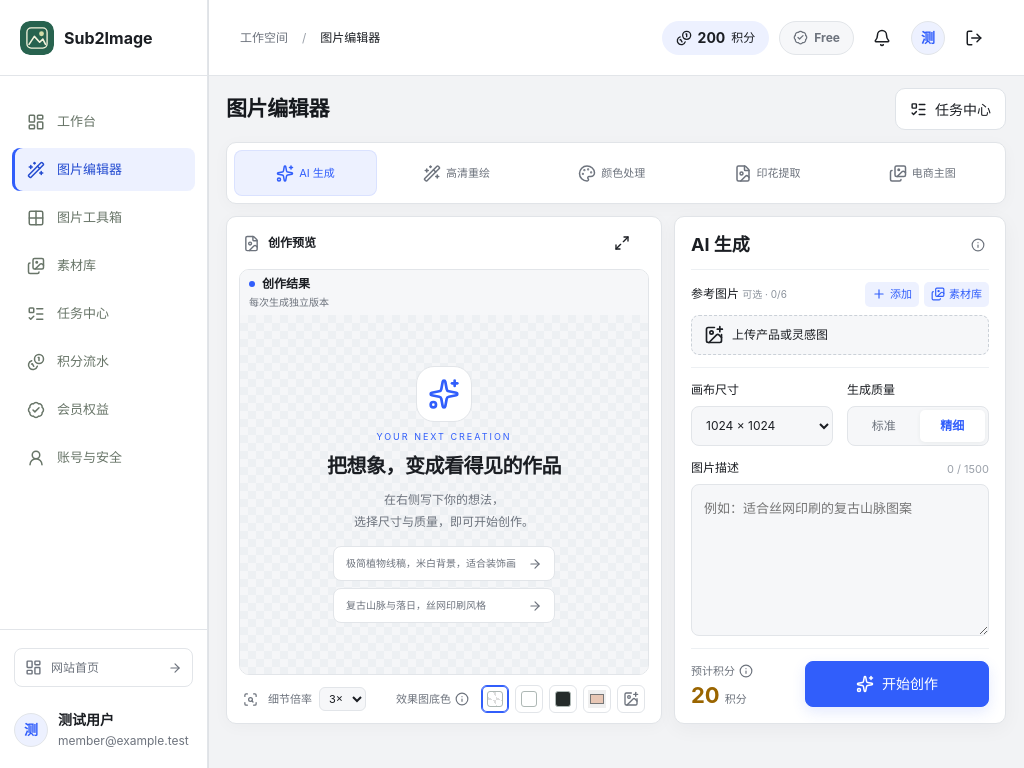
Studio task workflow › asks for a fresh quote after expiry and preserves the creative input
This screenshot has width=1024, height=768.
Type "复古山脉海报" into the text box labelled "图片描述 0 / 1500" at point(840, 560), box [691,484,989,636]
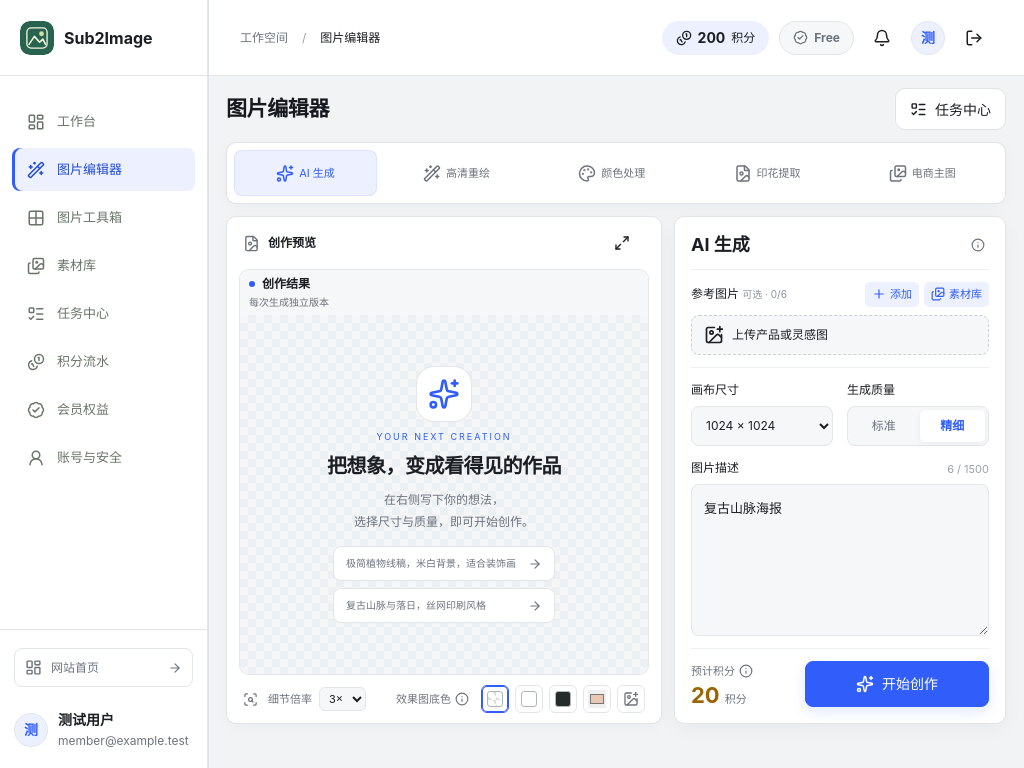
Click the button "开始创作" at point(897, 684), box [805,661,989,707]
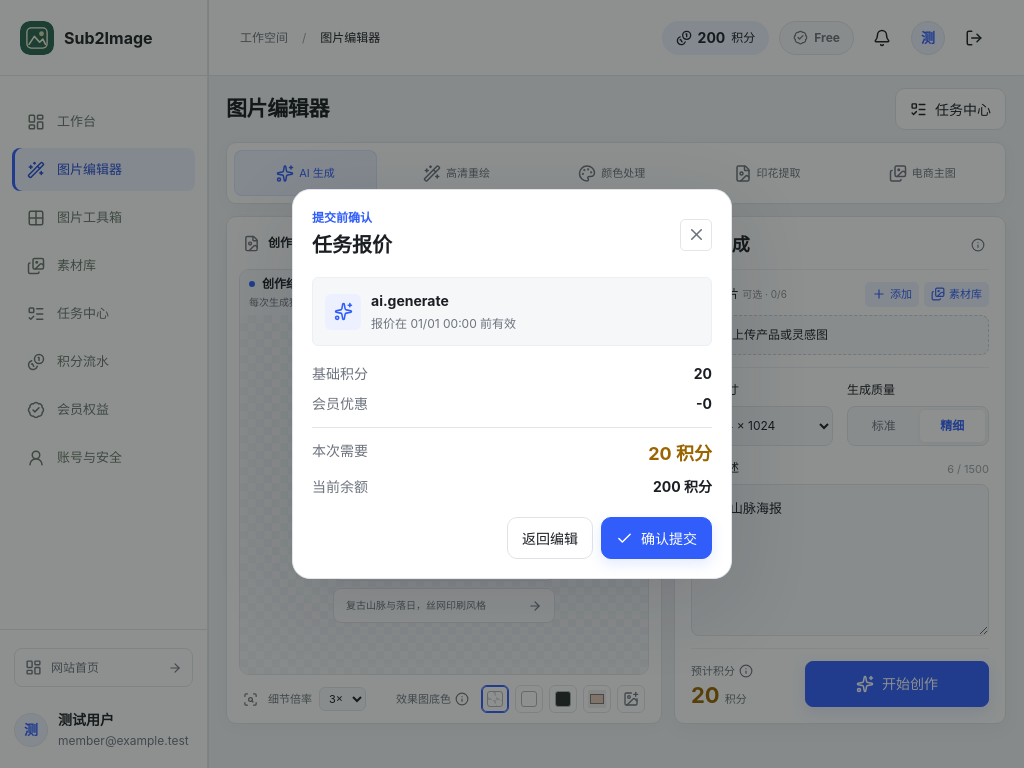
Click the button "确认提交" at point(656, 538), box [601,517,712,559]
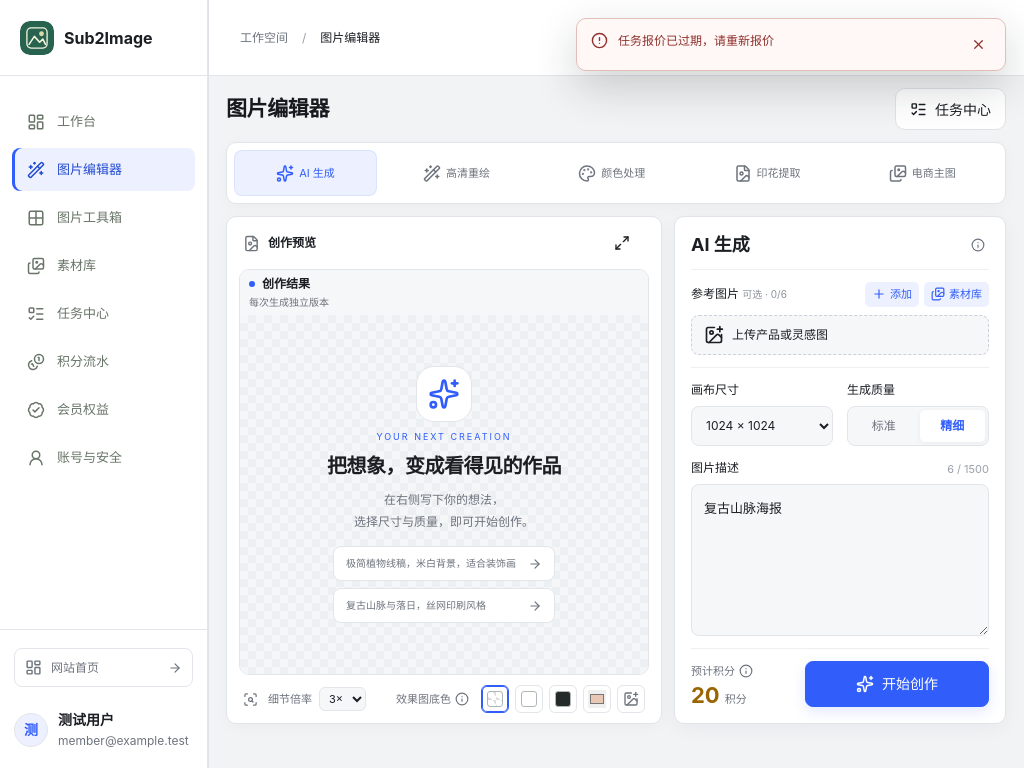
Check: the message shows "任务报价已过期", box [618,33,774,48]
Check: the dialog is gone
